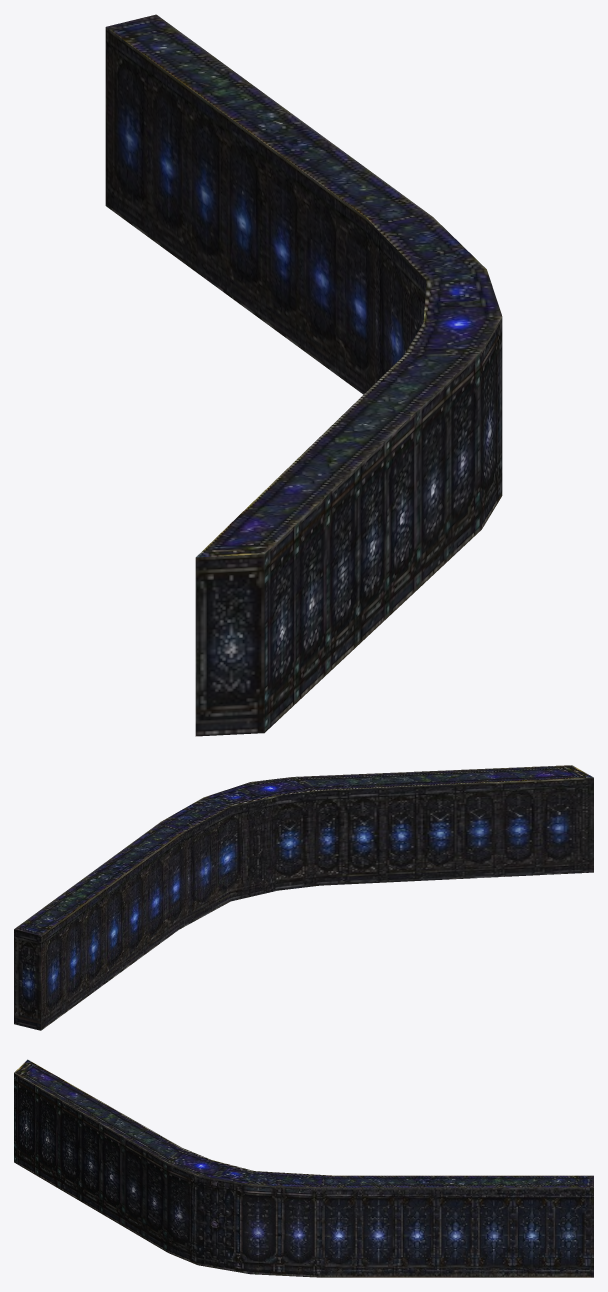
Rendered from ramp_pale_down_right_death_lvl_4.glb.
3 renders of one model, top to bottom at view 1: azimuth 30°, elevation 25°; view 2: azimuth 150°, elevation 25°; view 3: azimuth 270°, elevation 25°, orthographic. The views are drawn at different scales.
Parts seen in each view (by area): view 1: Mesh_0.008; view 2: Mesh_0.008; view 3: Mesh_0.008.
Part boxes in pixels (x1,y1,x2,y2): Mesh_0.008: (105, 14, 502, 736); Mesh_0.008: (14, 765, 593, 1030); Mesh_0.008: (14, 1059, 593, 1277).
Bounding box in the file's own units: 0.1283 × 0.0416 × 0.2445.
Materials: 1 (1 with a texture image).
